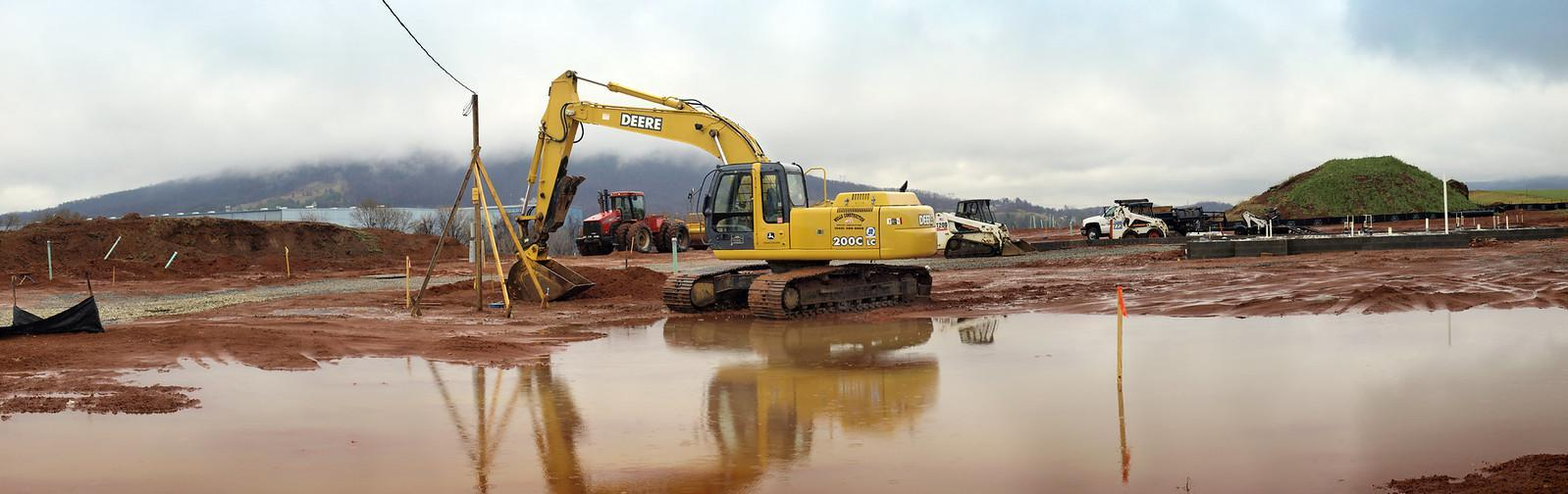EXCAVATORS: (508, 64, 942, 314)
